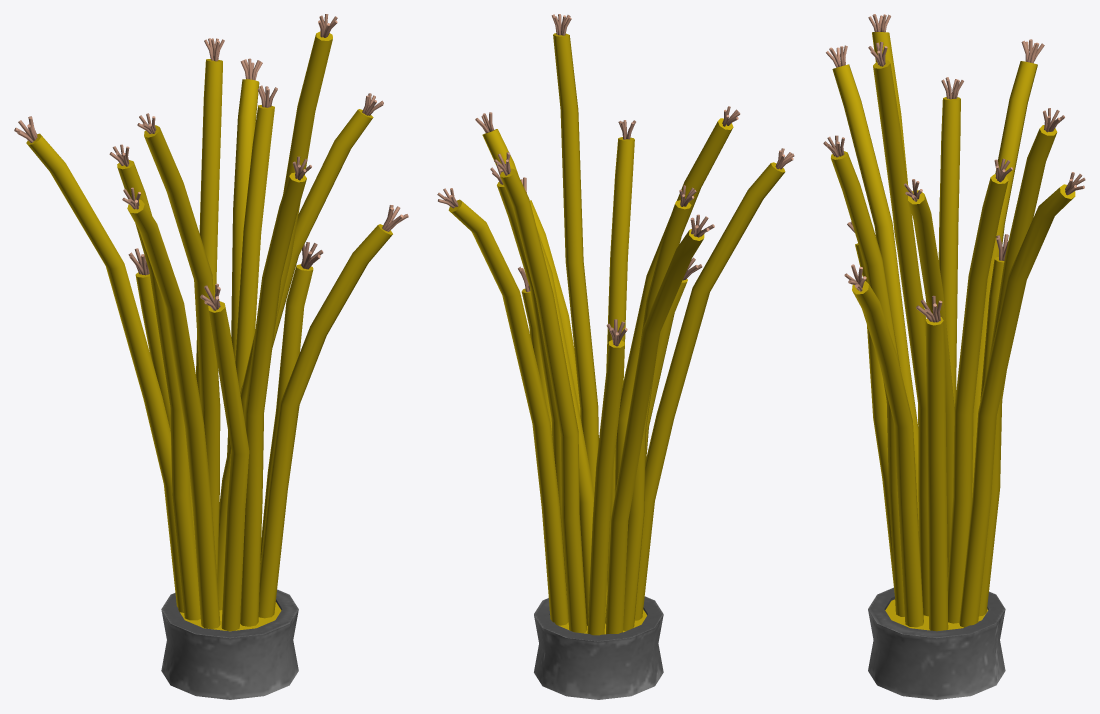
File: ElectricalWires01_12.glb
The picture shows the model from 3 angles, left to right: view 1: azimuth 30°, elevation 25°; view 2: azimuth 150°, elevation 25°; view 3: azimuth 270°, elevation 25°; orthographic projection. The views are drawn at different scales.
Parts seen in each view (by area): view 1: Circle_021; view 2: Circle_021; view 3: Circle_021.
Part boxes in pixels (x1,y1,x2,y2): Circle_021: (14, 14, 408, 699); Circle_021: (437, 14, 794, 699); Circle_021: (823, 14, 1085, 699).
Size of the model in its own units: 0.2037 by 0.4147 by 0.1493.
Materials: 1 (1 with a texture image).
